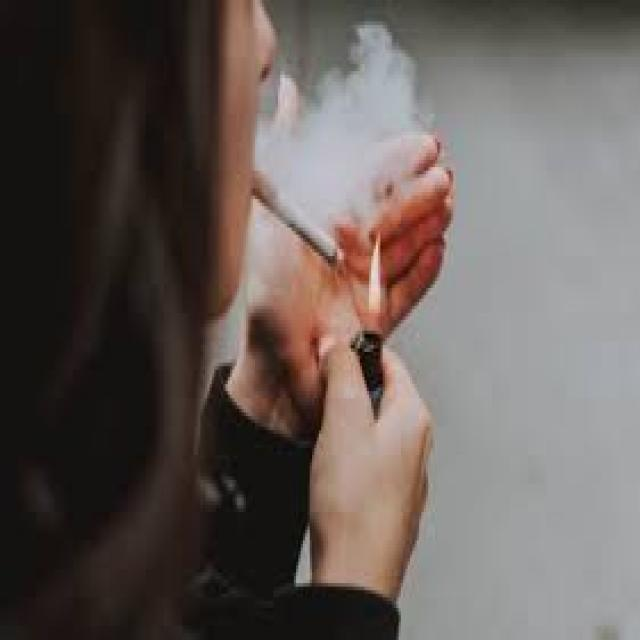rokok: (244, 168, 360, 272)
